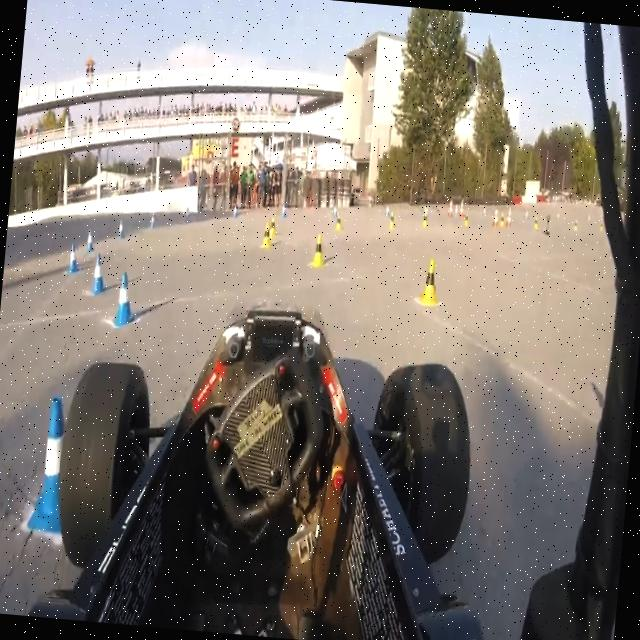blue_cone: (33, 396, 80, 527), (113, 273, 136, 330), (90, 252, 106, 296), (66, 242, 78, 274), (85, 230, 94, 254), (116, 220, 125, 238), (148, 212, 156, 232), (183, 207, 190, 224), (280, 202, 286, 219), (232, 204, 237, 217)
large_orange_cone: (446, 198, 454, 219), (505, 206, 512, 228), (492, 206, 498, 227), (458, 199, 464, 218)
yellow_cone: (420, 259, 439, 307), (312, 234, 324, 266), (261, 220, 271, 249), (333, 207, 343, 235), (420, 207, 430, 231), (388, 210, 396, 231), (268, 216, 276, 236), (498, 209, 505, 228), (463, 210, 470, 228), (532, 214, 538, 230)
